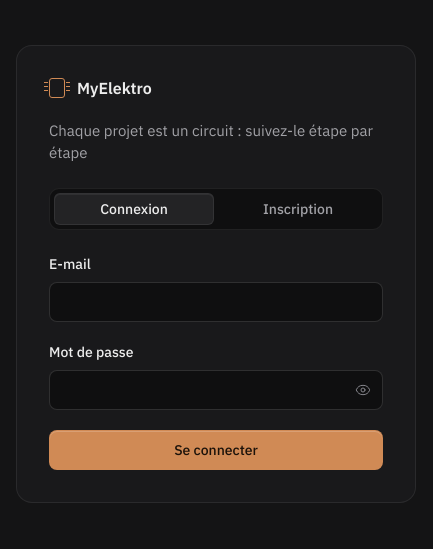
connexion › n'impose aucune règle de complexité et montre l'erreur de l'API
The width and height of the screenshot is (433, 549).
Type "a@b.fr" into the field labelled "E-mail".
click(216, 302); type("a@b.fr")  # box [49,282,383,322]
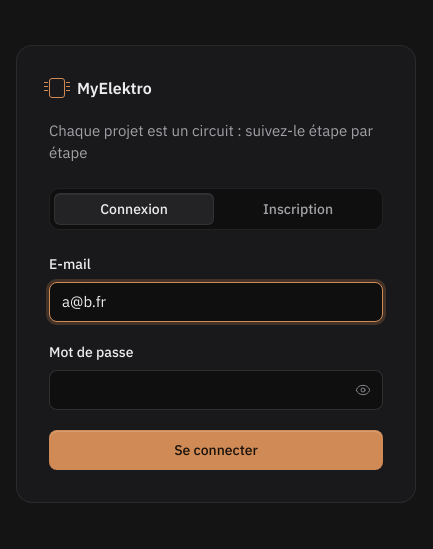
Type "simple" into the password field labelled "Mot de passe".
click(216, 390); type("simple")  # box [49,370,383,410]
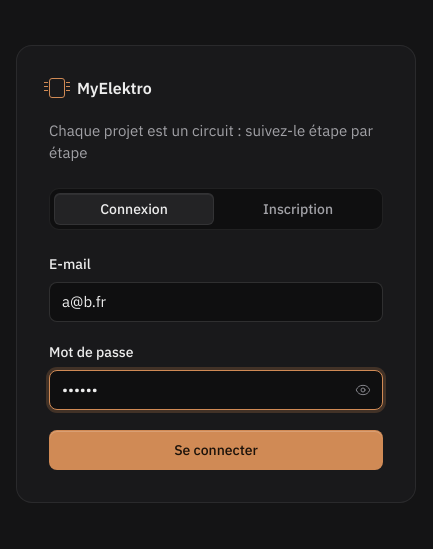
Click the button "Se connecter".
click(216, 450)  # box [49,430,383,470]
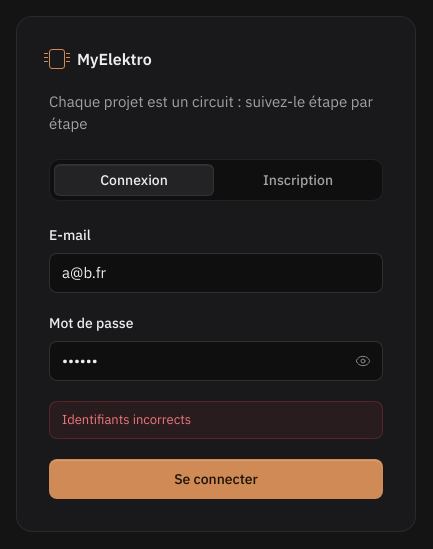
Expected: the text "Identifiants incorrects" is shown, [49,401,383,439]
